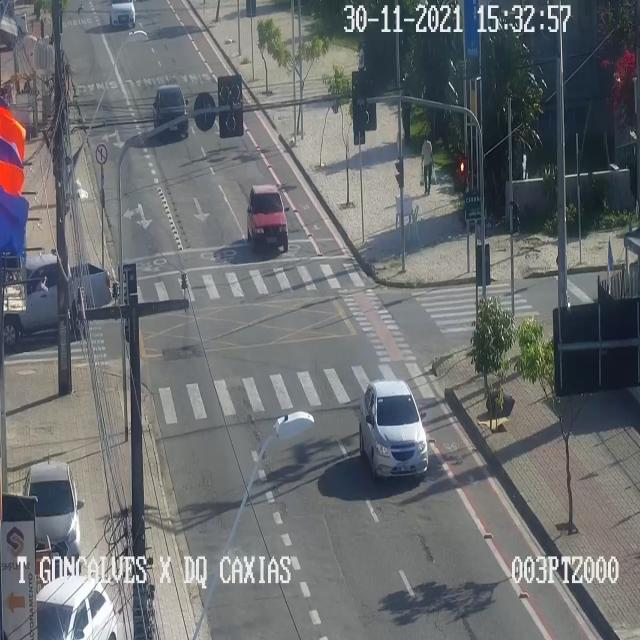Car: (2, 252, 112, 352), (358, 382, 428, 478), (24, 464, 84, 562), (37, 576, 117, 639), (248, 182, 291, 252), (153, 86, 191, 142), (110, 1, 137, 27)
